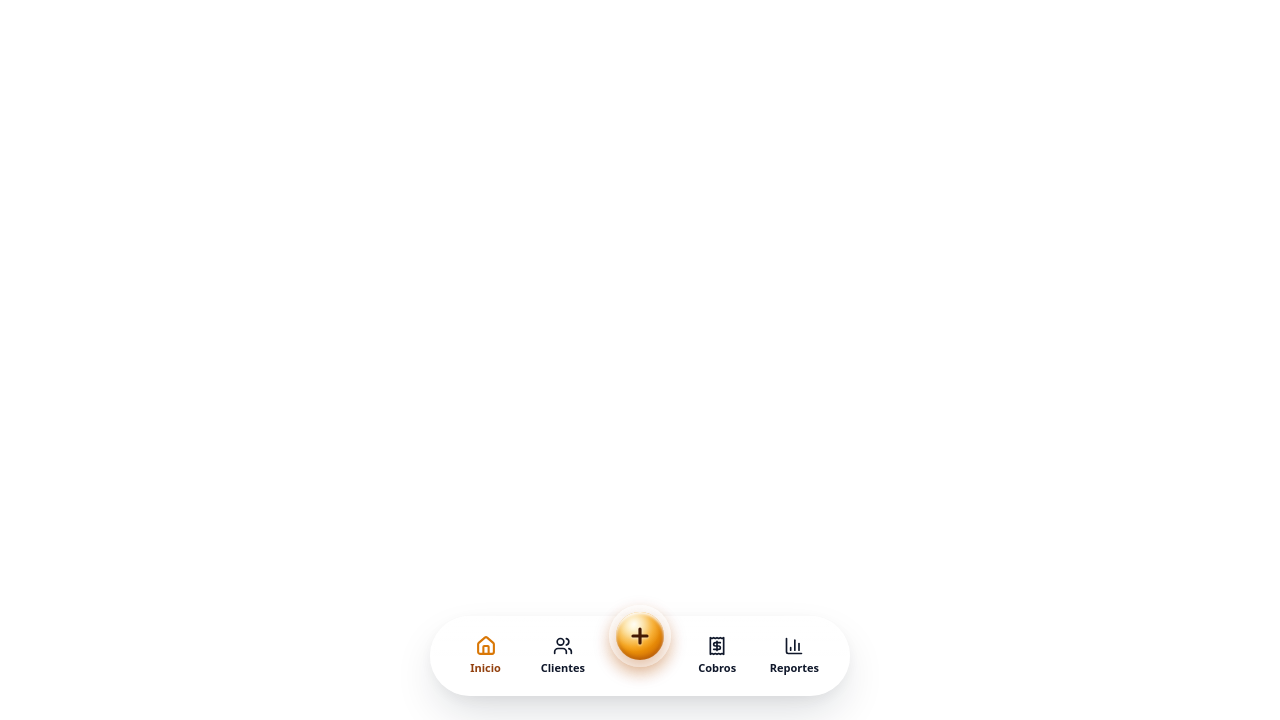
Test: TabBar Navigation Component (Strict TDD) › Floating Speed Dial Action Menu (Option A Refinements) › opens menu with compacted 310px arc container when central button is clicked
The image size is (1280, 720).
Click the button named "registrar nuevo fiado" at point(640, 636), box [616,612,664,660]
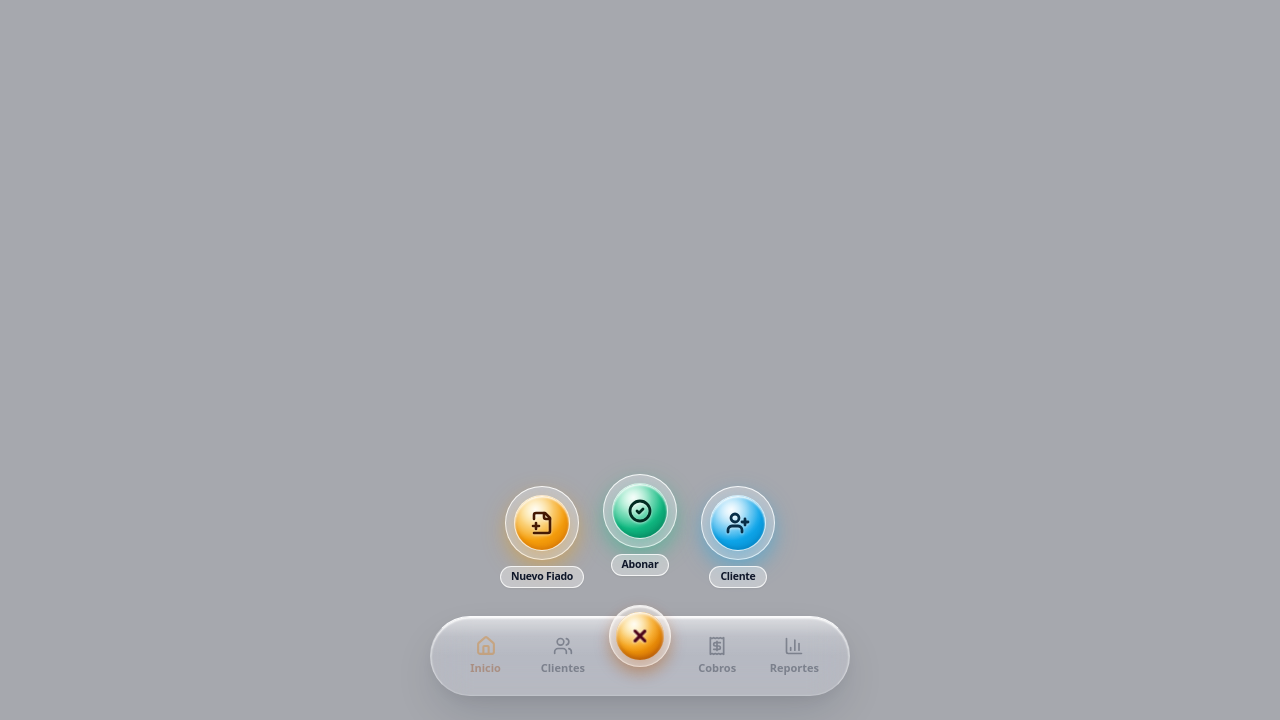
Expected: the menu named "acciones rápidas" is shown, [485,486,795,588]
